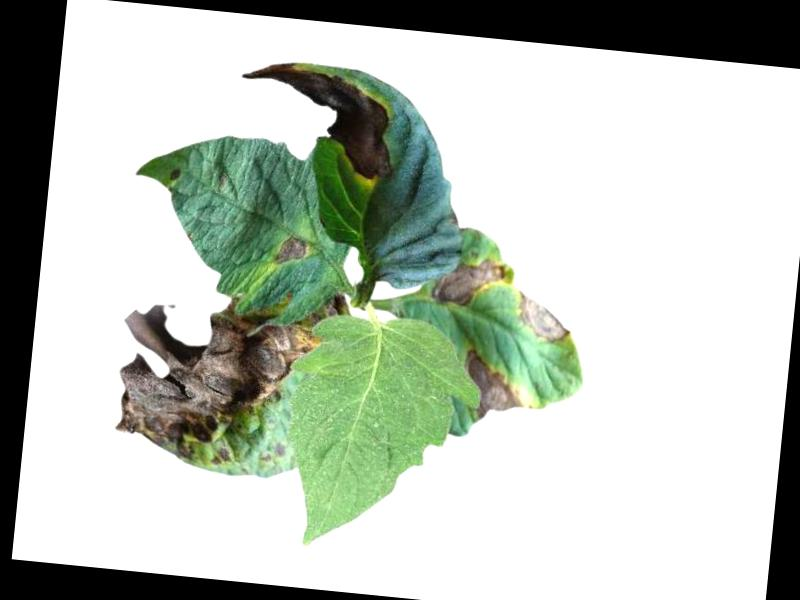Early_blight: (110, 285, 325, 475), (232, 59, 405, 185), (458, 347, 533, 424), (429, 253, 509, 315), (514, 289, 575, 347), (274, 234, 311, 267), (325, 291, 349, 321), (170, 168, 183, 183)
